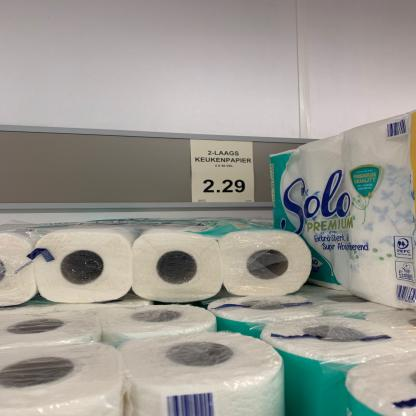prtg: (191, 141, 255, 204)
